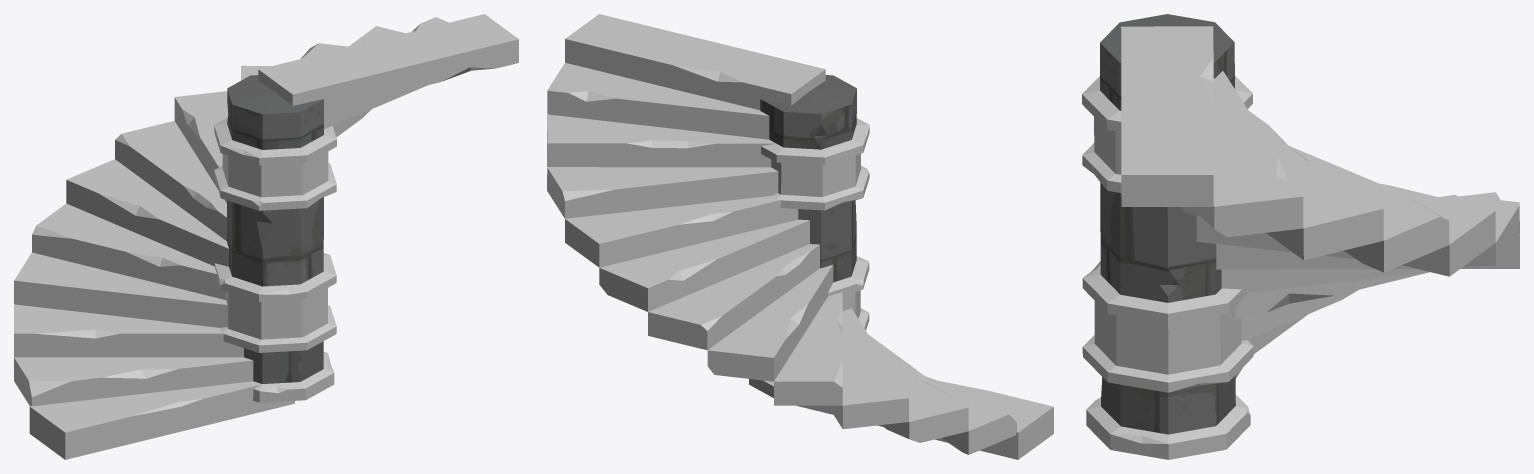
The model's file is SM_Bld_Stairs_Curve_03.fbx.
3 views of the same model, side by side, from view 1: azimuth 30°, elevation 25°; view 2: azimuth 150°, elevation 25°; view 3: azimuth 270°, elevation 25° (orthographic). The views are drawn at different scales.
Parts seen in each view (by area): view 1: SM_Bld_Stairs_Curve_03; view 2: SM_Bld_Stairs_Curve_03; view 3: SM_Bld_Stairs_Curve_03.
Part boxes in pixels (x1,y1,x2,y2): SM_Bld_Stairs_Curve_03: [14, 14, 518, 459]; SM_Bld_Stairs_Curve_03: [547, 14, 1053, 459]; SM_Bld_Stairs_Curve_03: [1082, 14, 1519, 459].
Size of the model in its own units: 502 by 327 by 311.
